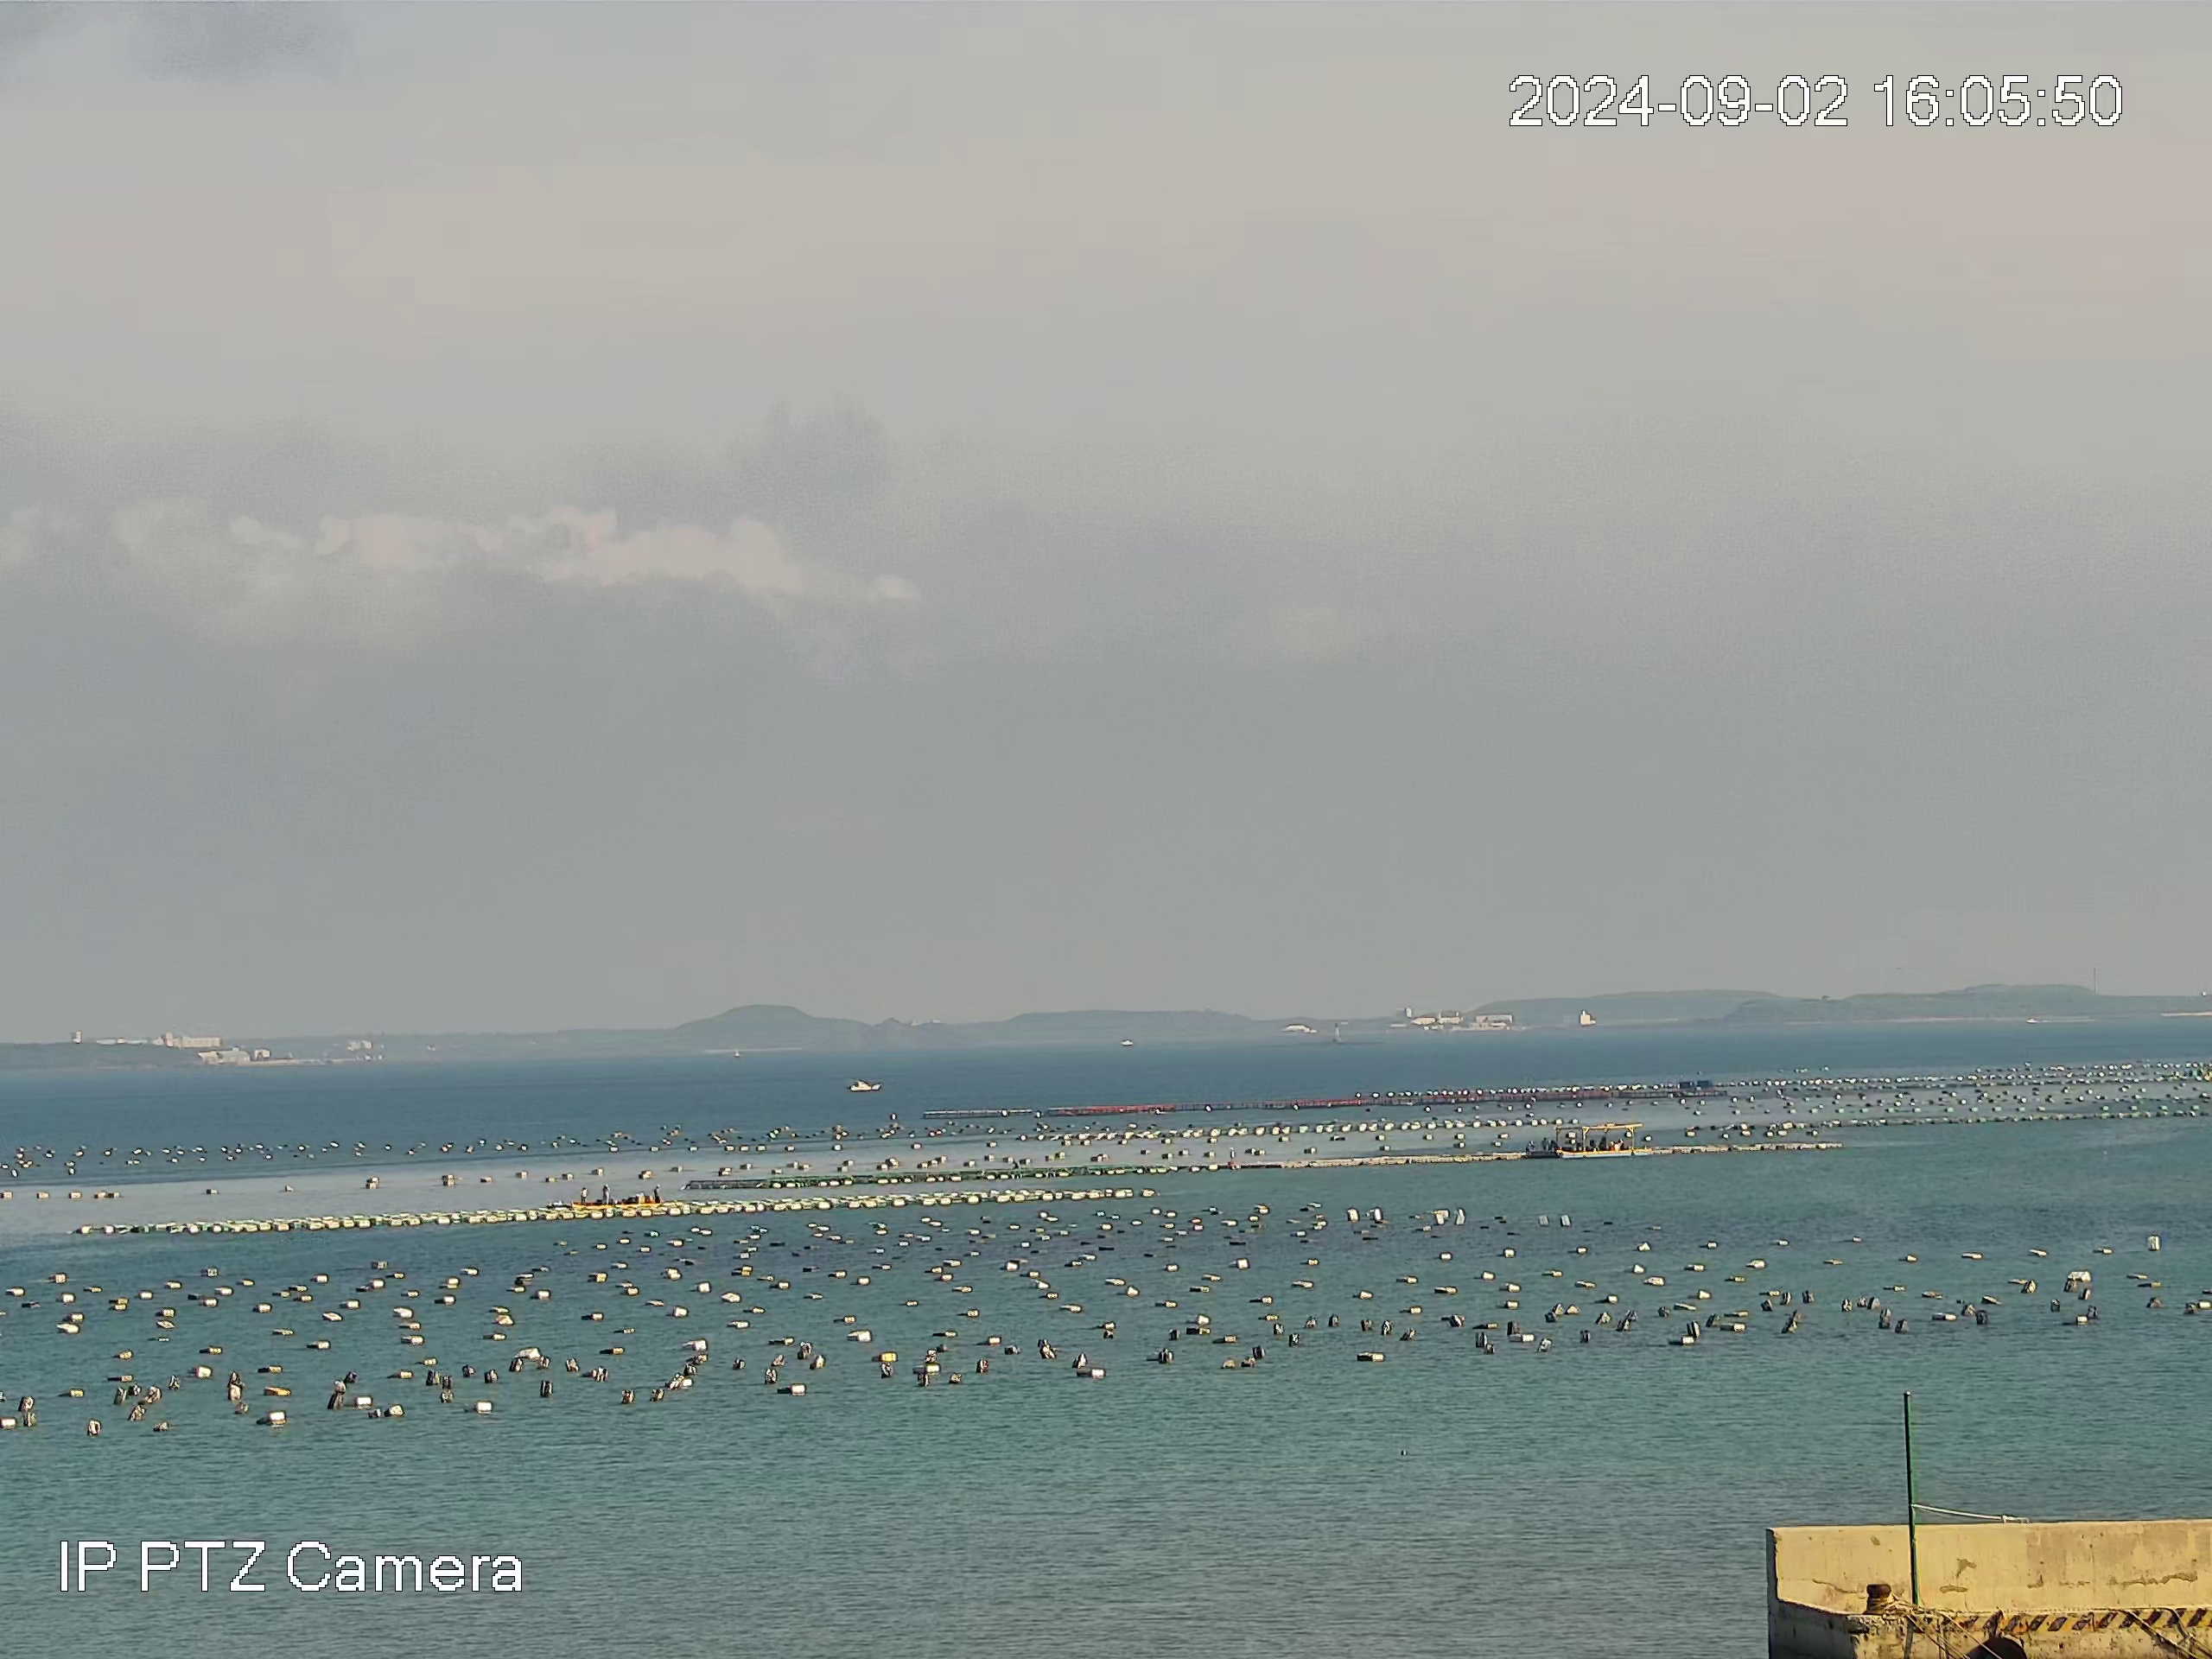boat: (1553, 1122, 1653, 1160), (569, 1183, 666, 1210), (847, 1078, 883, 1092)
